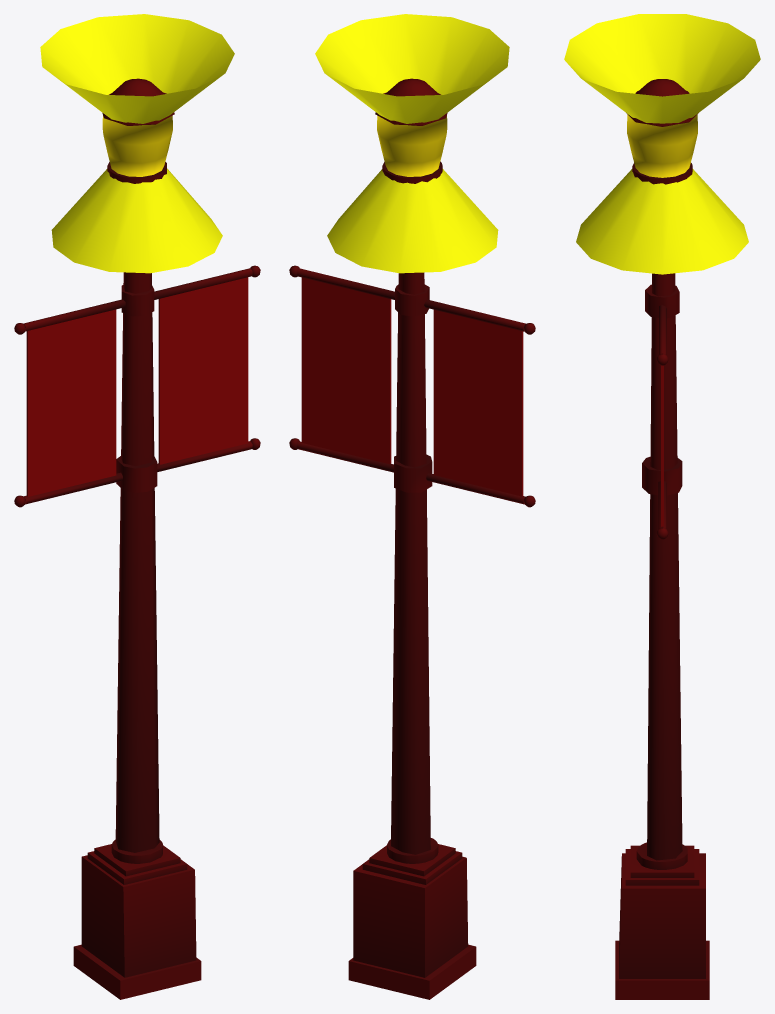
The model's file is BanneredStreetLamp.glb.
3 renders of one model, left to right at view 1: azimuth 30°, elevation 25°; view 2: azimuth 150°, elevation 25°; view 3: azimuth 270°, elevation 25°, orthographic.
Visible parts, largest first — view 1: BanneredStreetLamp; view 2: BanneredStreetLamp; view 3: BanneredStreetLamp.
Boxes of the visible parts, bbox=[...] form: BanneredStreetLamp: bbox=[14, 14, 260, 999]; BanneredStreetLamp: bbox=[289, 14, 535, 999]; BanneredStreetLamp: bbox=[564, 14, 760, 999].
Size of the model in its own units: 14.48 by 51.95 by 10.01.
